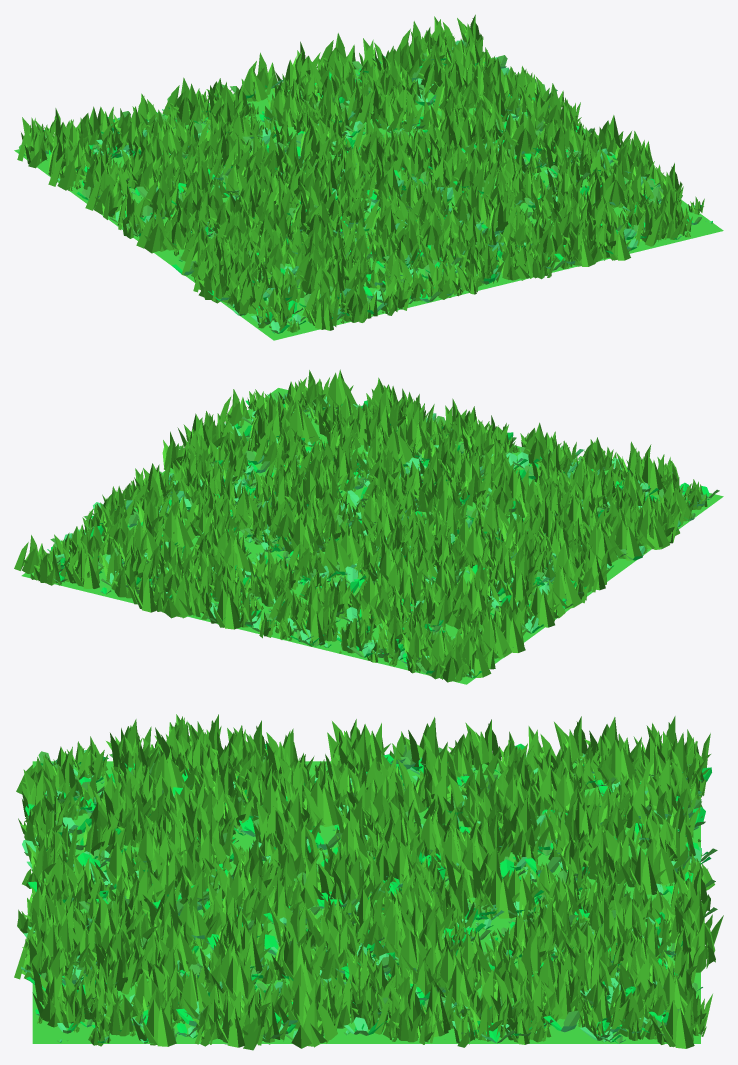
The model's file is NatureGround 1.fbx.
The picture shows the model from 3 angles, top to bottom: view 1: azimuth 30°, elevation 25°; view 2: azimuth 150°, elevation 25°; view 3: azimuth 270°, elevation 25°; orthographic projection. The views are drawn at different scales.
Parts seen in each view (by area): view 1: Plane.004; view 2: Plane.004; view 3: Plane.004.
Part boxes in pixels (<box>): Plane.004: <box>14,14,723,340</box>; Plane.004: <box>14,369,723,684</box>; Plane.004: <box>14,714,723,1050</box>.
Size of the model in its own units: 24.76 by 2.13 by 24.82.
